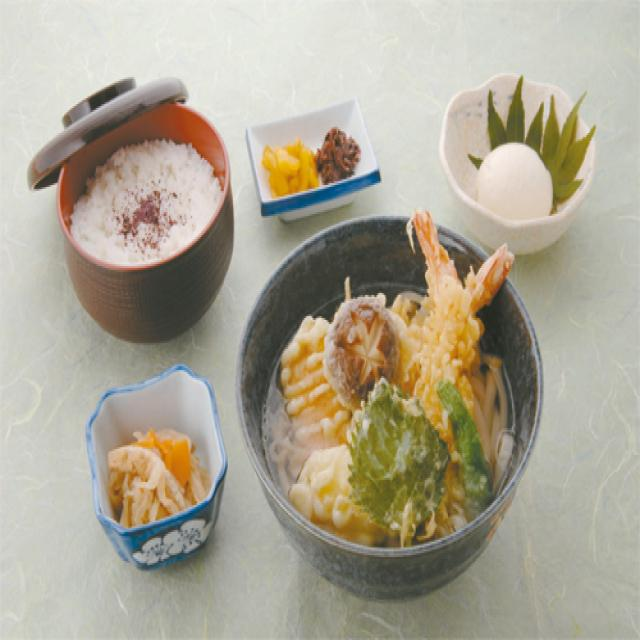面条主食: (258, 206, 510, 546)
